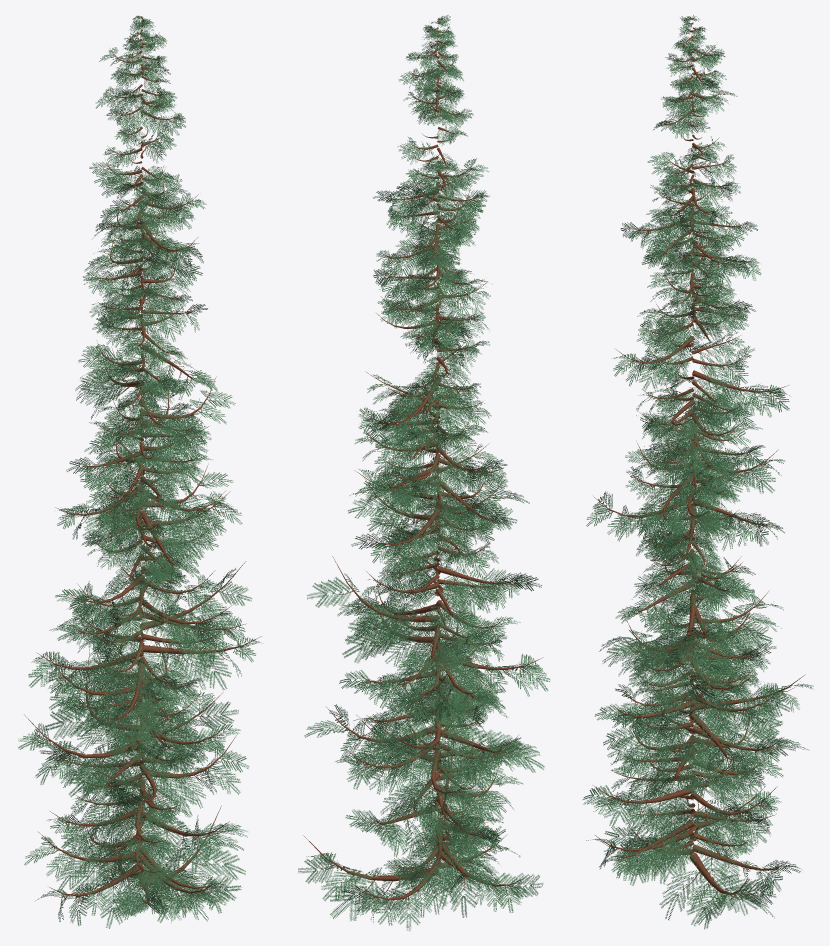
Rendered from forest-fir-lod0.glb.
3 views of the same model, side by side, from view 1: azimuth 30°, elevation 25°; view 2: azimuth 150°, elevation 25°; view 3: azimuth 270°, elevation 25° (orthographic). The views are drawn at different scales.
Visible parts, largest first — view 1: redwood-crown; view 2: redwood-crown; view 3: redwood-crown.
Part boxes in pixels (bbox=[...]): redwood-crown: bbox=[18, 15, 261, 928]; redwood-crown: bbox=[298, 15, 550, 931]; redwood-crown: bbox=[582, 15, 813, 929].
Size of the model in its own units: 13.37 by 49.92 by 12.08.
7 materials, 3 textured.
